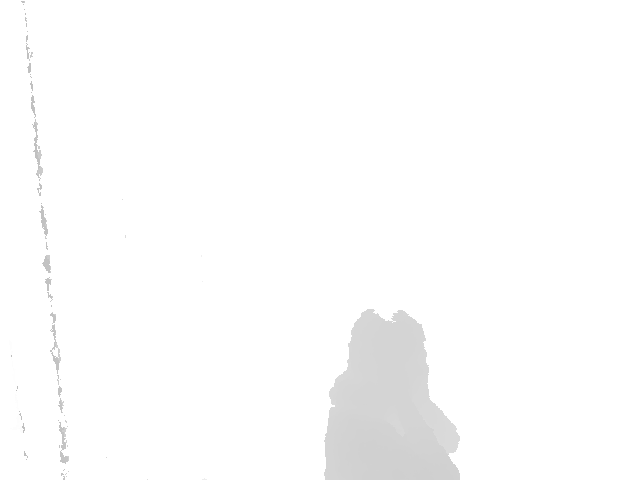head: (348, 310, 429, 411)
person: (321, 311, 463, 480)
